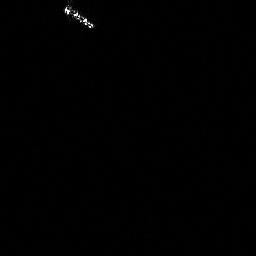ship: (60, 1, 98, 31)
